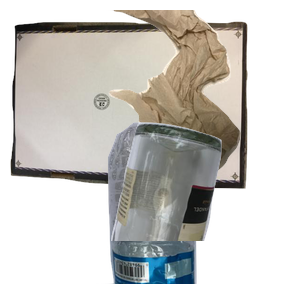cardboard: (10, 19, 250, 199)
glass: (109, 120, 300, 300)
plastic: (96, 120, 285, 300)
trash: (103, 10, 300, 173)
